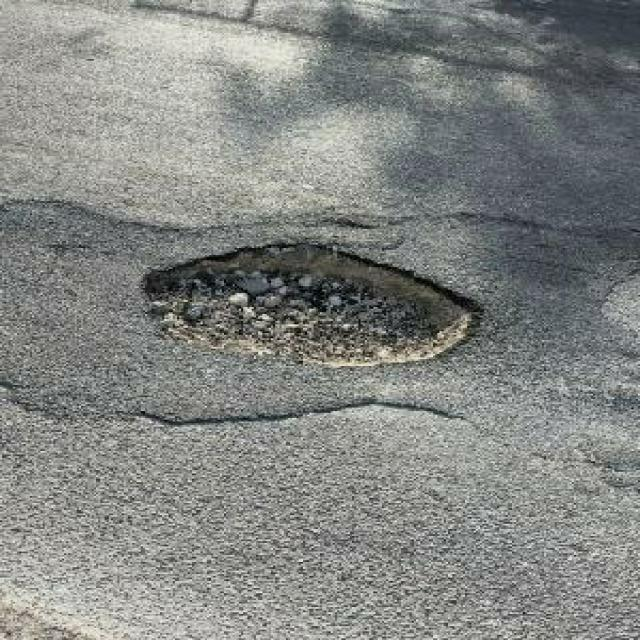Pothole: (139, 234, 491, 366)
